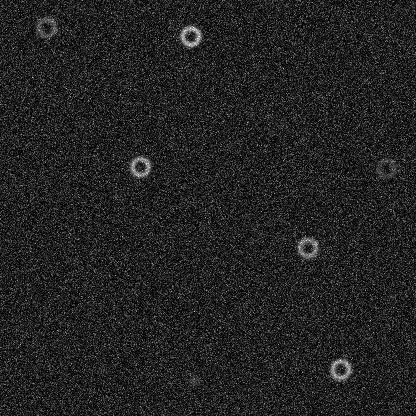Ring: (374, 155, 398, 179), (295, 235, 319, 259), (178, 24, 202, 48), (328, 357, 352, 381), (34, 15, 58, 39), (128, 154, 152, 178)
Spot: (185, 371, 201, 387)
